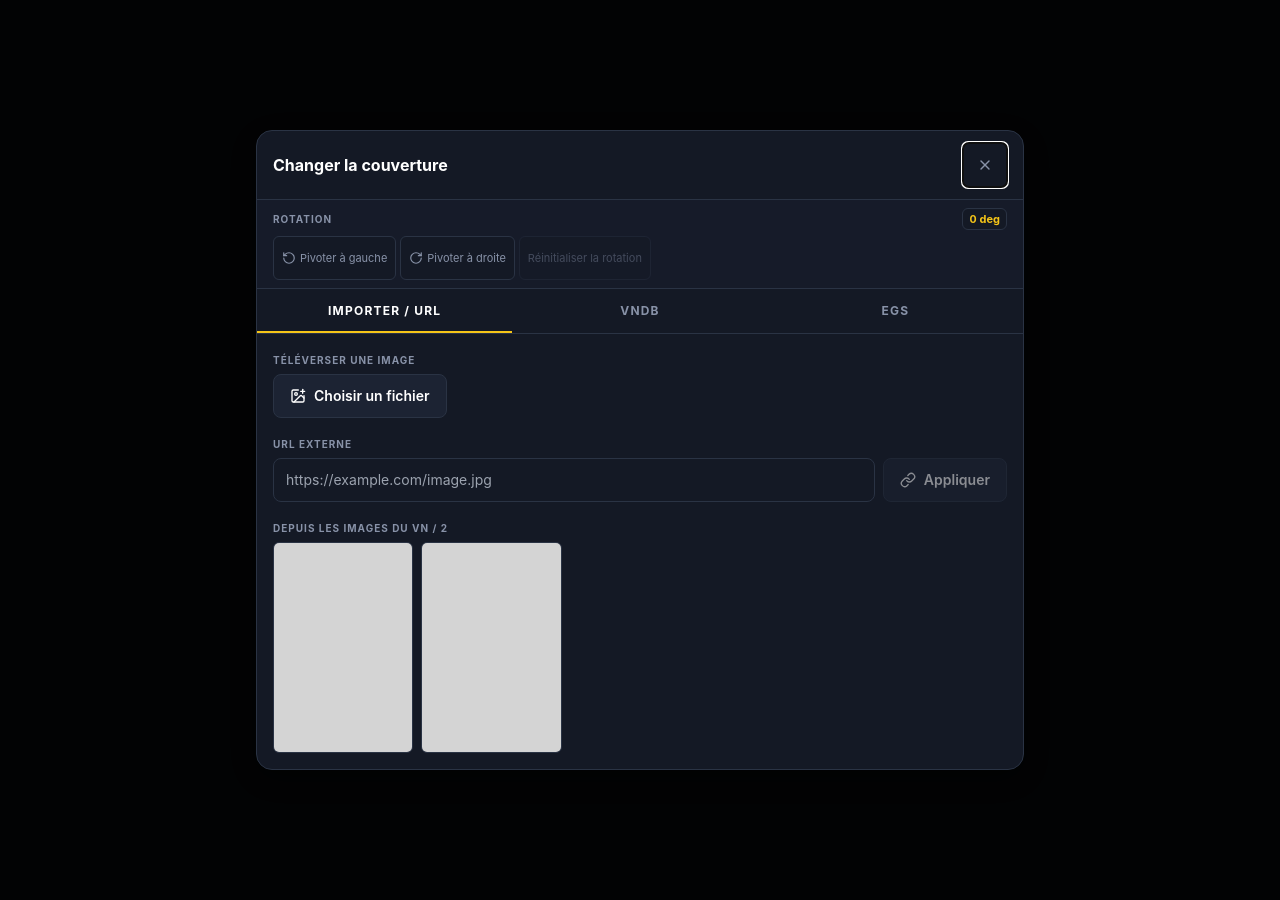
Test: CoverSourcePicker › shows an error alert when the EGS candidate fetch fails
The image size is (1280, 900).
Click the tab "EGS" at [895, 311], box [768,289,1023,333]
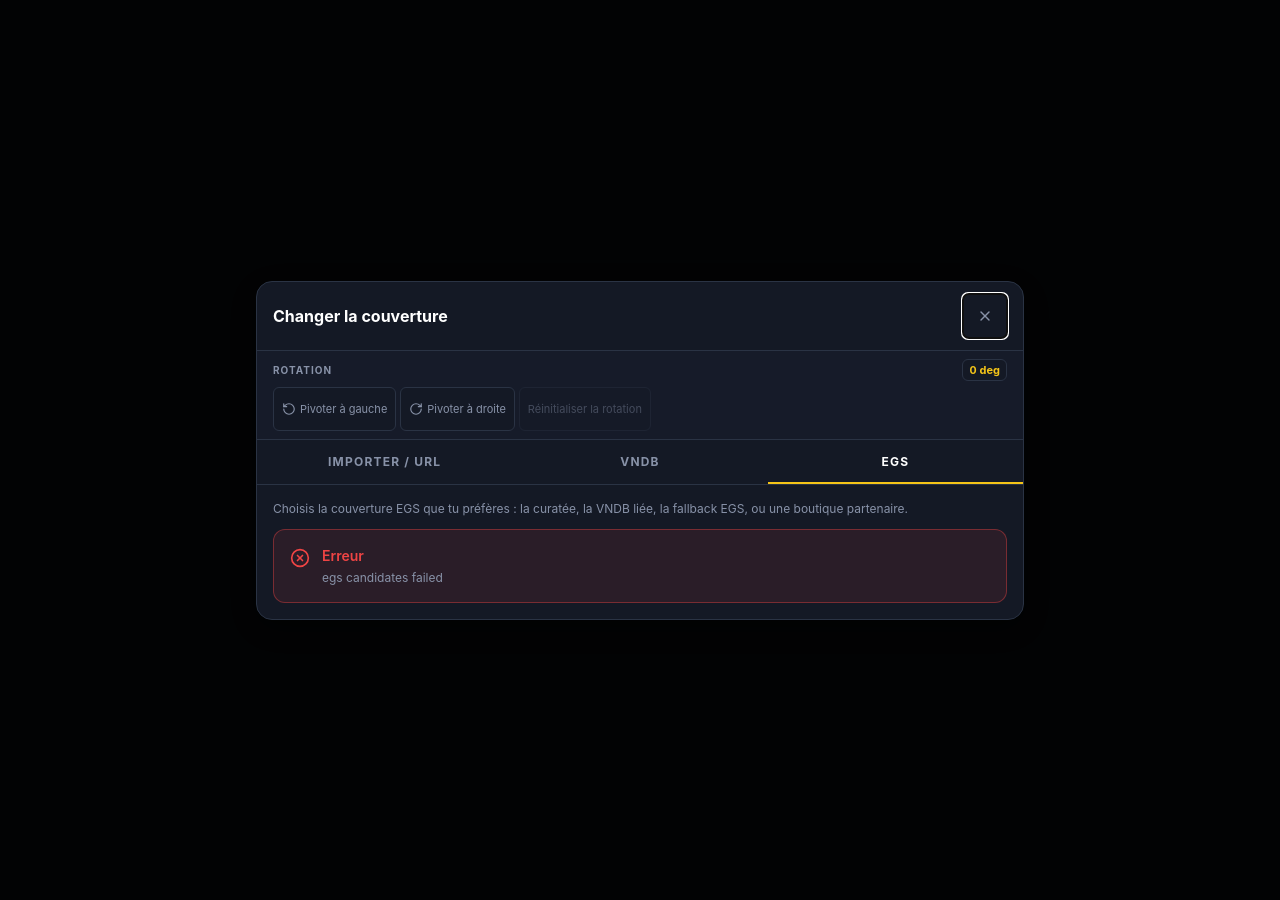
expect the text "egs candidates failed" is shown: met, box [322,570,443,584]
